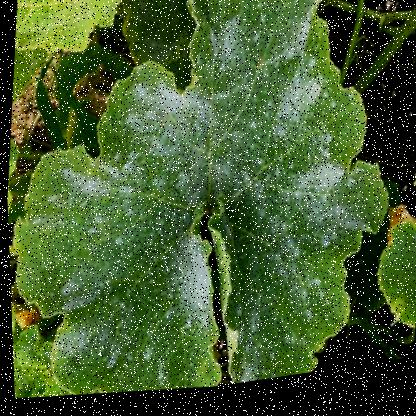PowderyMildew: (32, 180, 215, 357), (206, 68, 353, 239), (115, 78, 295, 210), (224, 193, 333, 348)
